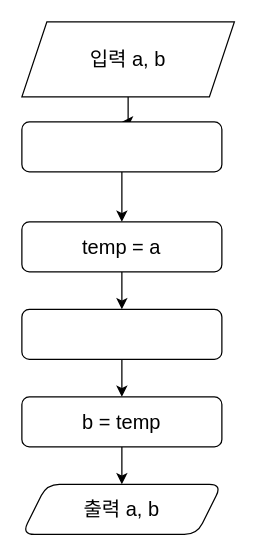
This 256x556 diagram has some shape labels left out. The centre of each missing label's shape, as x and y in pixels:
a = b: the point at 121,333
변수 temp 선언: the point at 121,146
